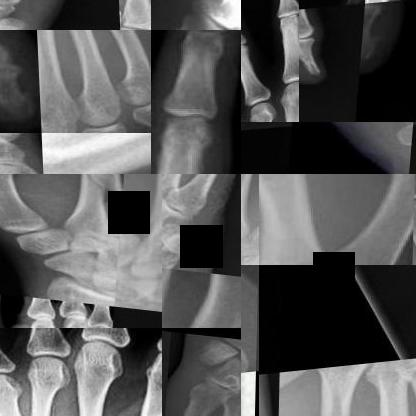fracture: (62, 174, 128, 211), (132, 174, 162, 235), (281, 374, 312, 408), (30, 398, 76, 415), (0, 401, 39, 415)
